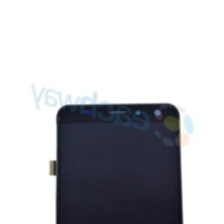phone: (43, 95, 193, 224)
